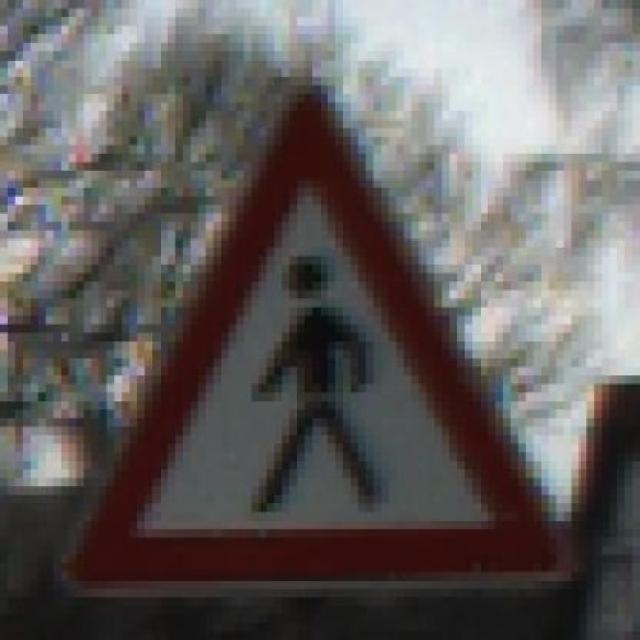Pedestrian Crossing: (45, 77, 587, 589)
